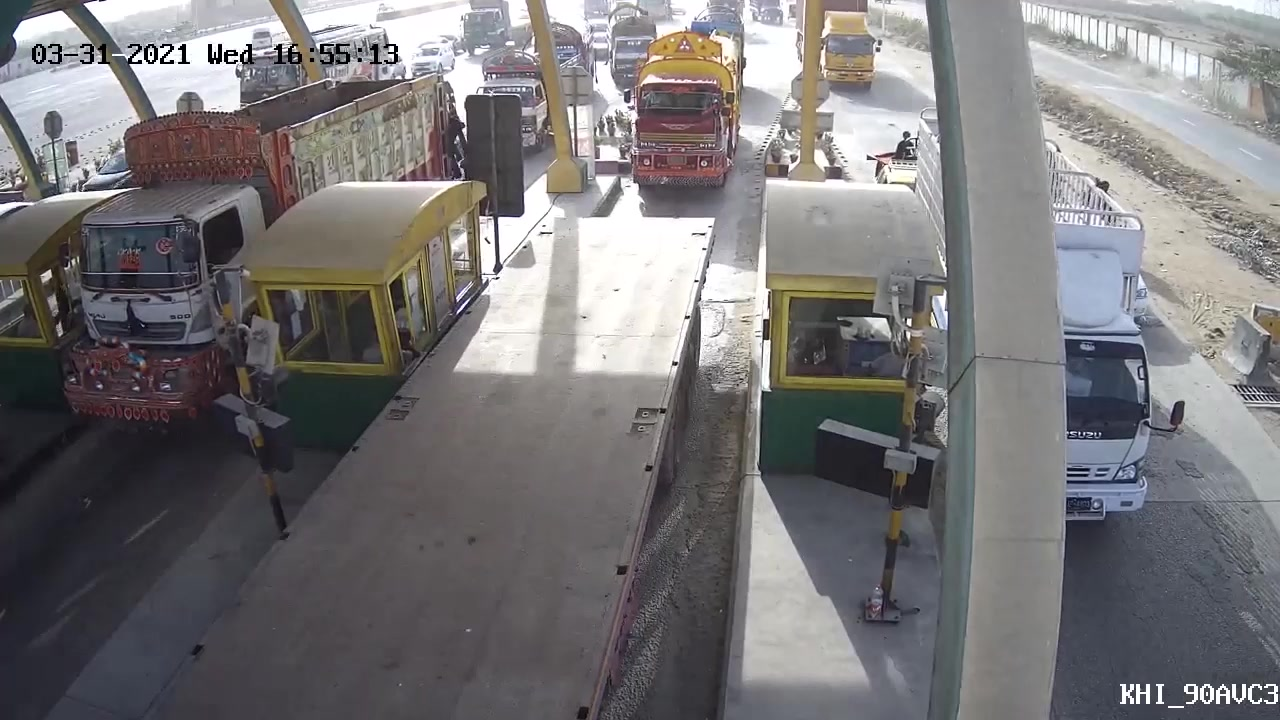F6: (608, 7, 762, 204)
